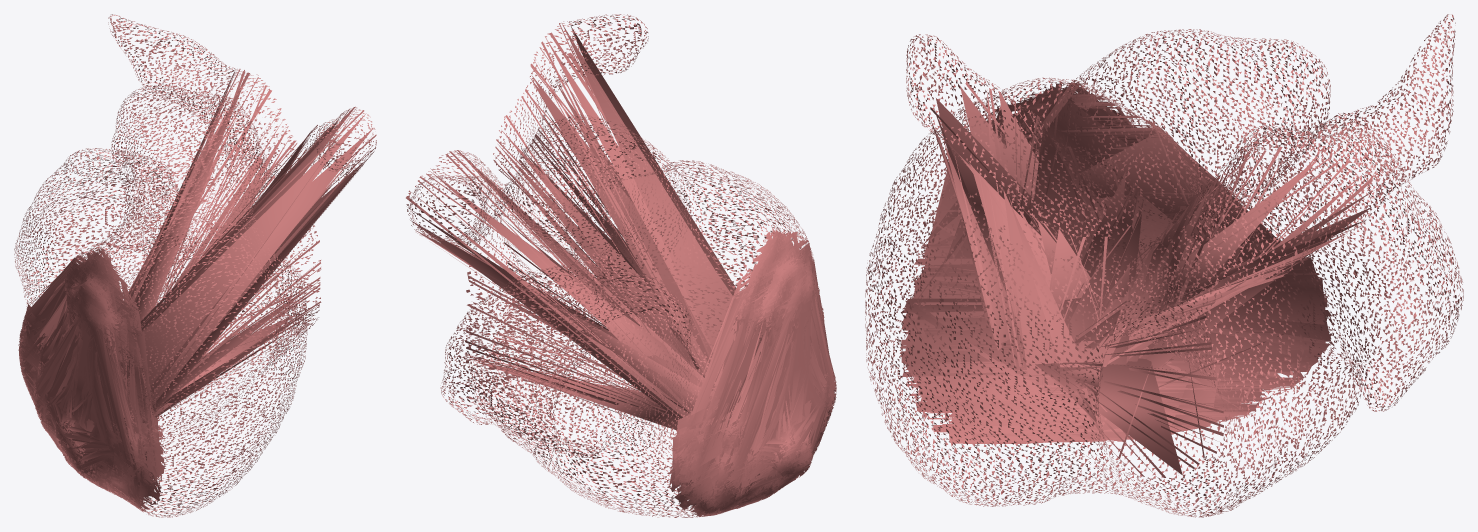
File: heart.glb
3 renders of one model, left to right at view 1: azimuth 30°, elevation 25°; view 2: azimuth 150°, elevation 25°; view 3: azimuth 270°, elevation 25°, orthographic. The views are drawn at different scales.
Bounding box in the file's own units: 105 × 140 × 136.
